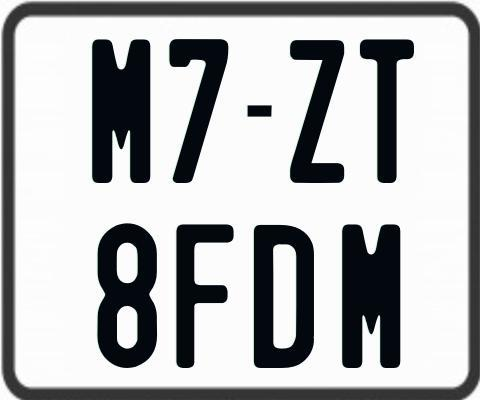7: (168, 38, 231, 185)
8: (97, 223, 159, 372)
D: (252, 222, 316, 371)
F: (173, 224, 235, 373)
M: (339, 224, 401, 372), (92, 37, 153, 181)
T: (360, 37, 417, 185)
Z: (288, 38, 344, 181)
